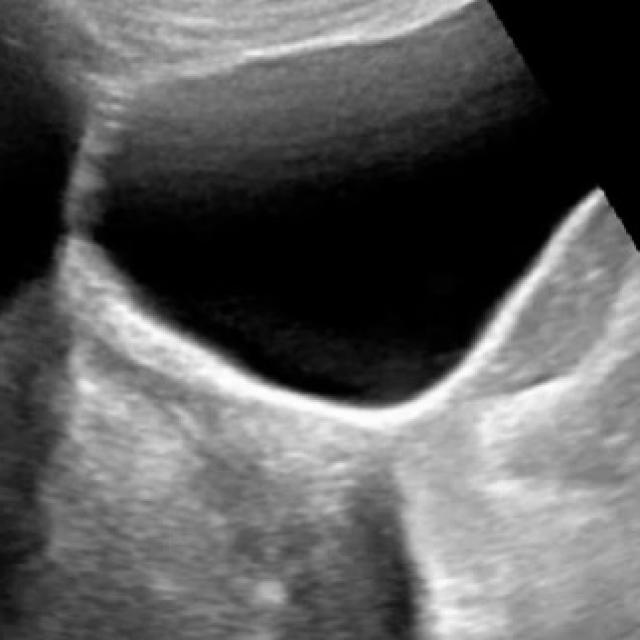bladder: (85, 0, 609, 438)
